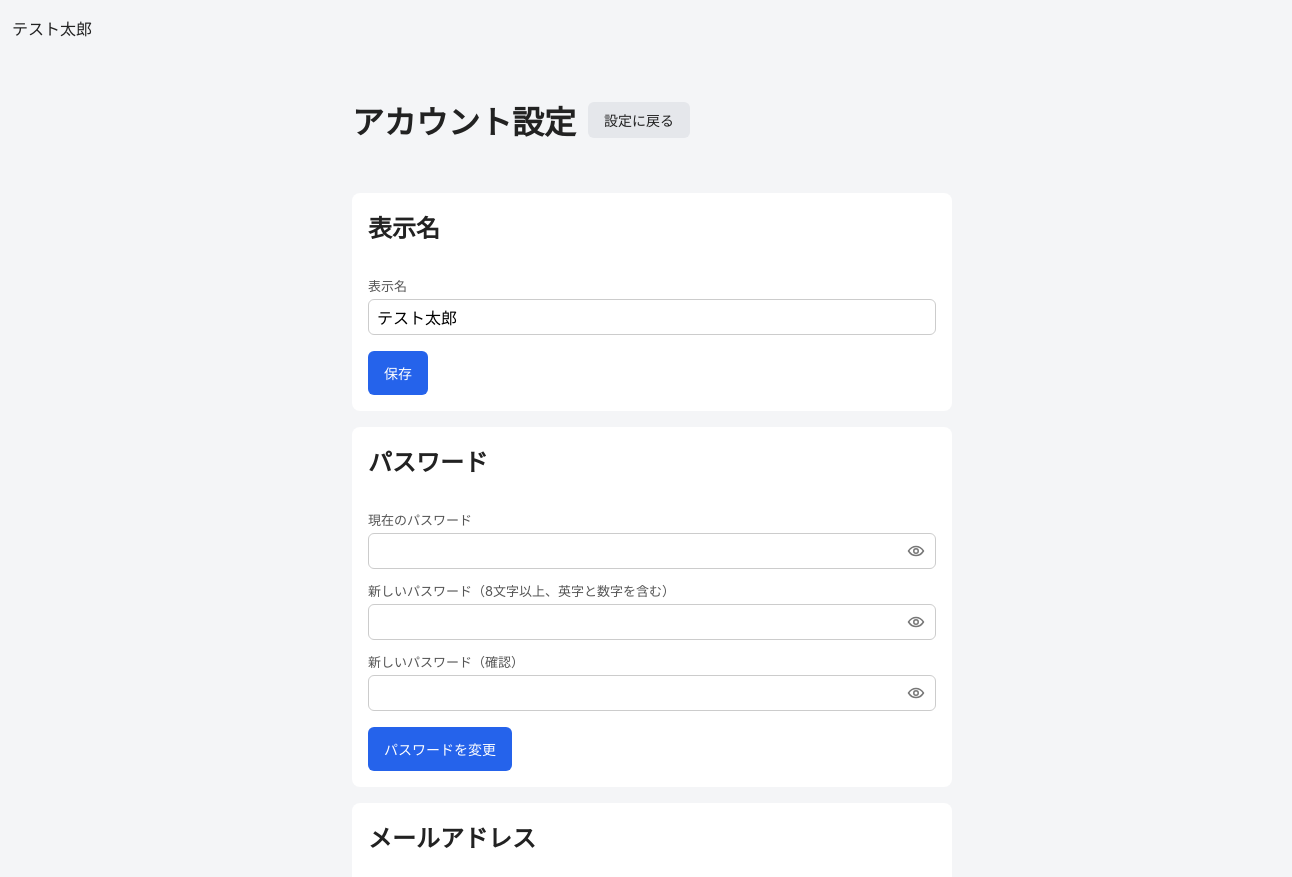
Test: AccountSettingsPage (#292) › 表示名を変更するとヘッダーの表示名にもすぐ反映される
Replace the text in the field labelled "表示名" with "  テスト花子  ". click: point(652, 317)
box: [368,299,936,335]
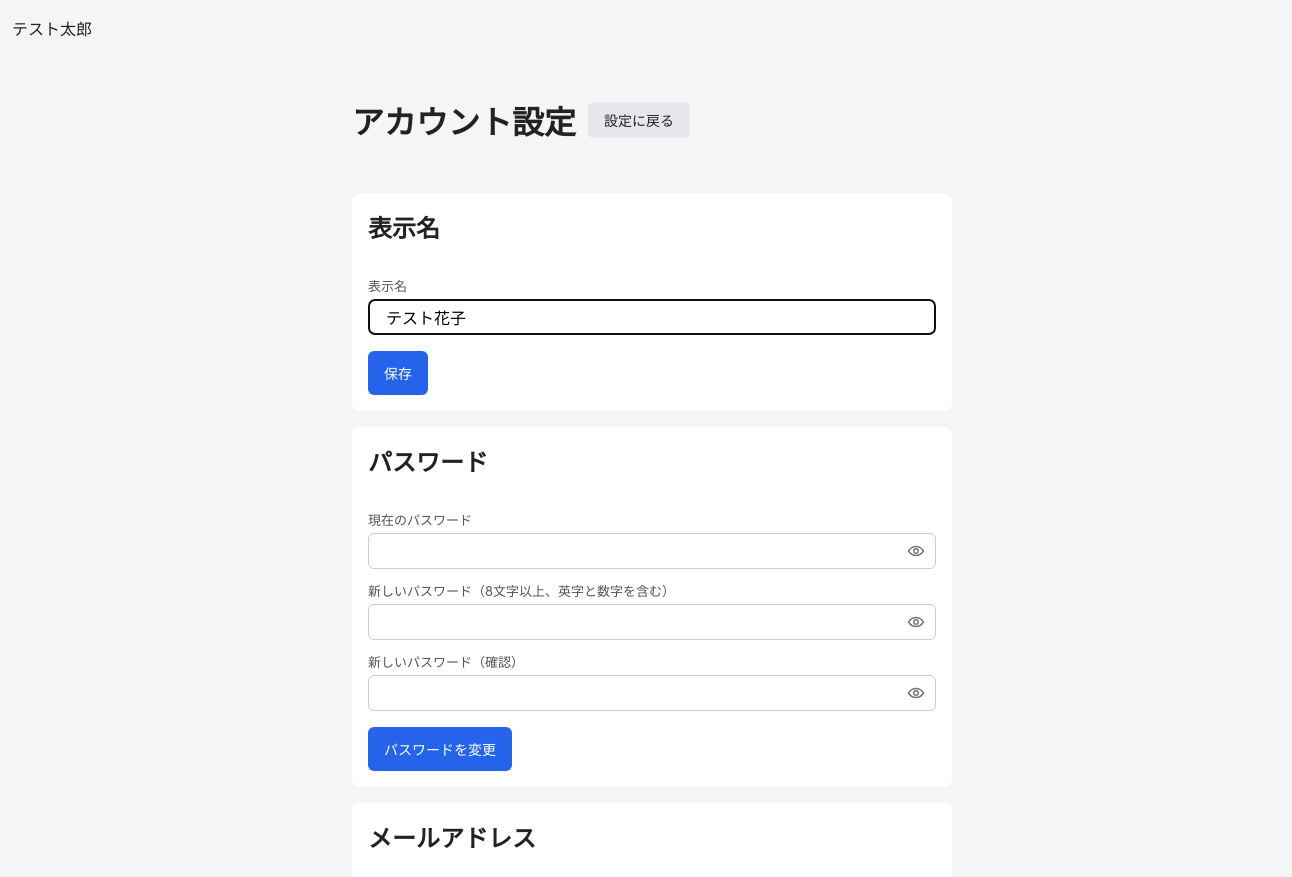
Click the button "保存". click: point(398, 373)
box: [368,351,428,395]
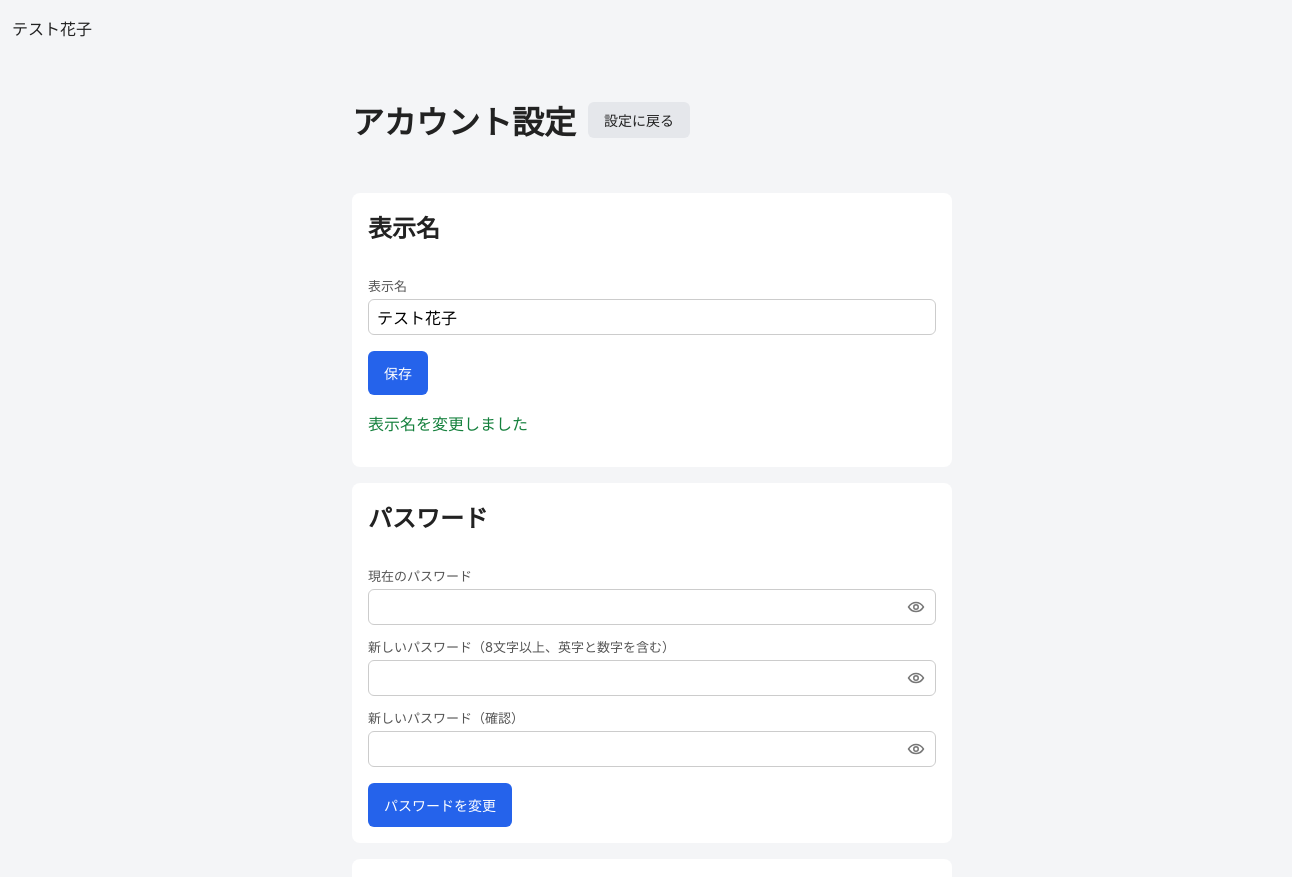
Now the text with test id "header-name" reads "テスト花子", box [12,19,92,39]
Now the message reads "表示名を変更しました", box [368,414,528,434]
